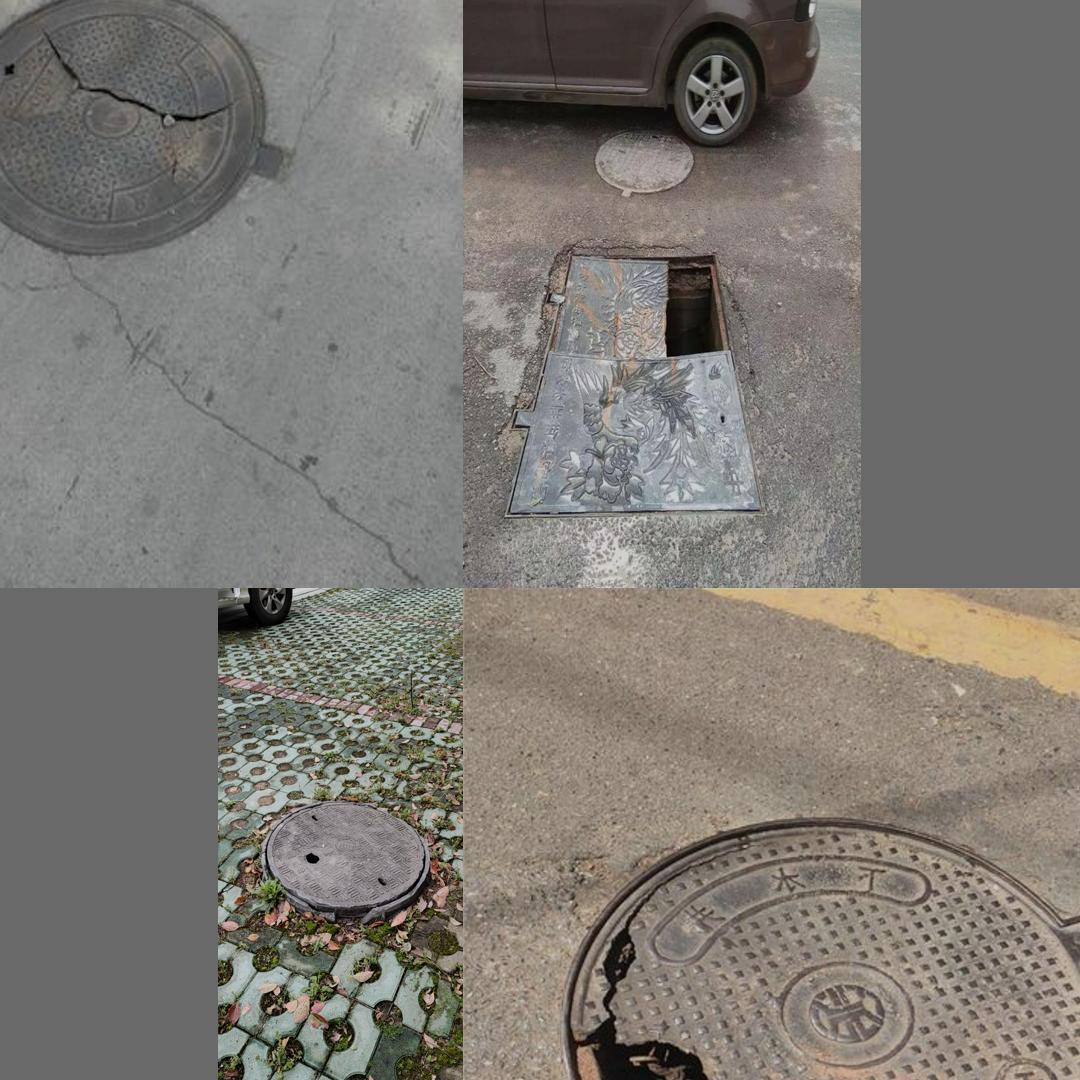broke: (561, 791, 1080, 1080), (490, 225, 774, 538), (0, 0, 291, 267), (259, 798, 430, 924)
